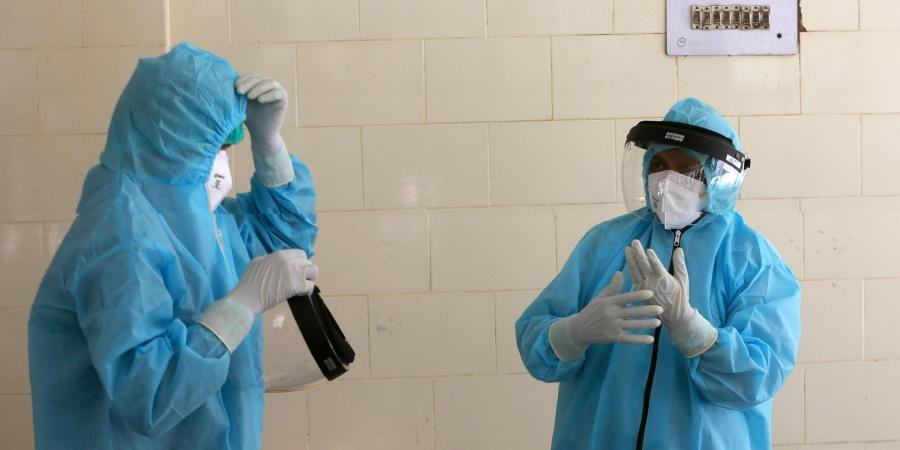Coverall: (27, 42, 319, 450), (513, 96, 803, 450)
Face_Shield: (617, 119, 752, 237)
Gloves: (192, 245, 323, 357), (622, 238, 720, 361), (545, 271, 666, 366), (234, 75, 298, 194)
with_mask: (647, 152, 706, 235), (206, 140, 233, 214)
